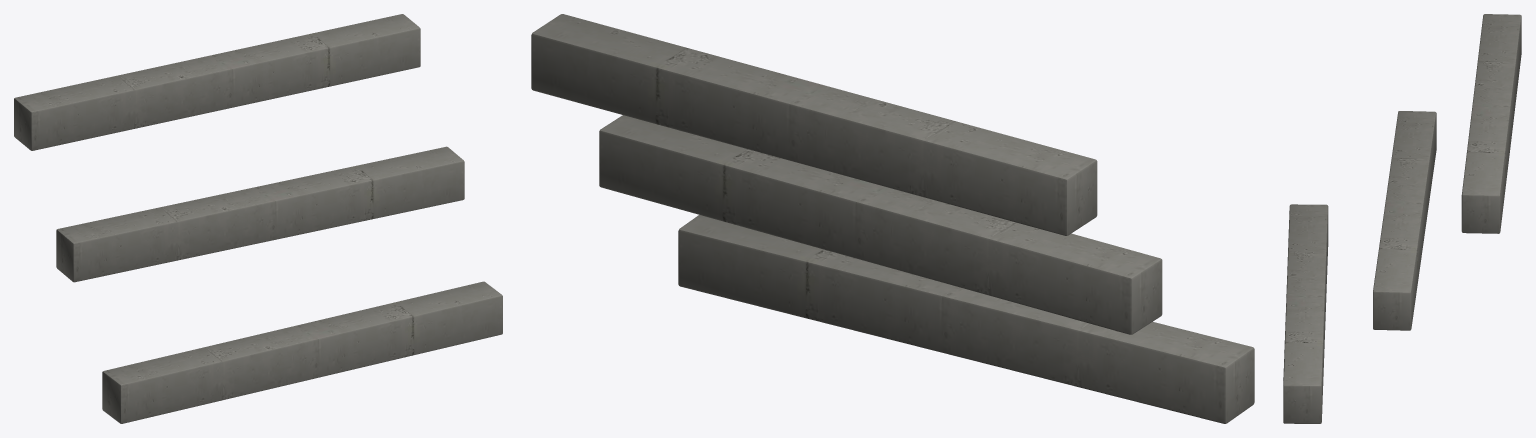
Rendered from ALV-VRG-002_anim.glb.
3 renders of one model, left to right at view 1: azimuth 30°, elevation 25°; view 2: azimuth 150°, elevation 25°; view 3: azimuth 270°, elevation 25°, orthographic. The views are drawn at different scales.
Visible parts, largest first — view 1: ALV-VRG-002_anim1, ALV-VRG-002_anim2, ALV-VRG-002_anim0; view 2: ALV-VRG-002_anim2, ALV-VRG-002_anim1, ALV-VRG-002_anim0; view 3: ALV-VRG-002_anim1, ALV-VRG-002_anim2, ALV-VRG-002_anim0.
Part boxes in pixels (bbox=[...]): ALV-VRG-002_anim1: bbox=[56, 146, 464, 282]; ALV-VRG-002_anim2: bbox=[14, 14, 420, 150]; ALV-VRG-002_anim0: bbox=[102, 281, 502, 423]; ALV-VRG-002_anim2: bbox=[531, 14, 1097, 235]; ALV-VRG-002_anim1: bbox=[599, 115, 1162, 334]; ALV-VRG-002_anim0: bbox=[678, 215, 1254, 423]; ALV-VRG-002_anim1: bbox=[1373, 111, 1436, 330]; ALV-VRG-002_anim2: bbox=[1461, 14, 1521, 233]; ALV-VRG-002_anim0: bbox=[1283, 204, 1328, 423].
Size of the model in its own units: 1.03 by 0.6 by 0.555.
1 material, 1 textured.
